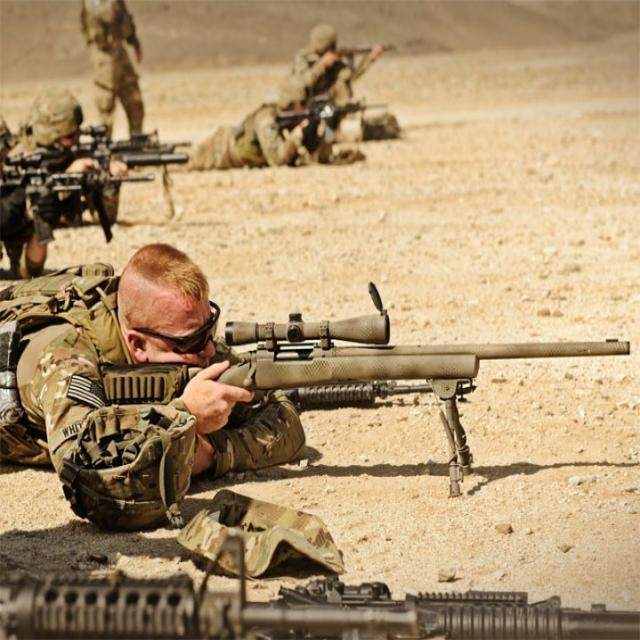rifle: (81, 294, 640, 422), (0, 531, 640, 640), (2, 143, 148, 224), (74, 118, 205, 175), (274, 91, 396, 132)
